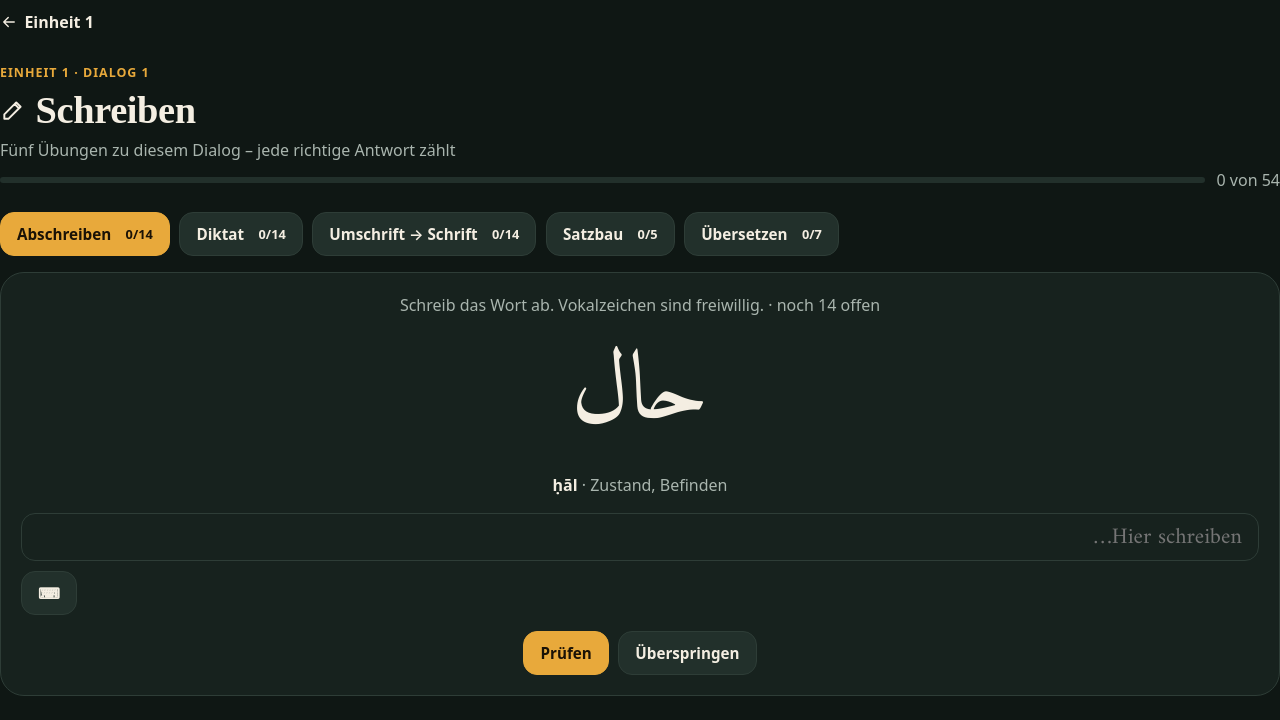
Test: Units (integration) › guides writing step by step, never repeats a solved word and keeps the place
Check: the heading "Schreiben" is shown, box [0,89,196,131]
Type "حال" into the field at (640,538), box [21,514,1259,562]
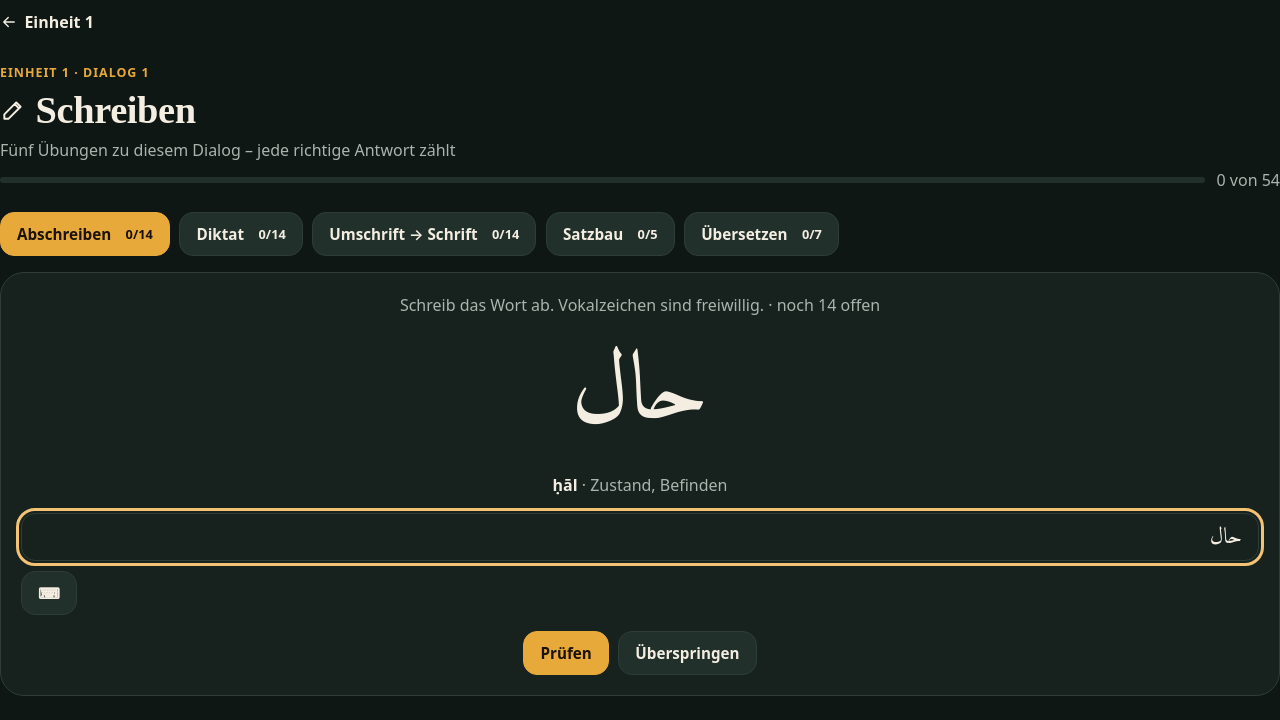
Click the button "Prüfen" at (566,653), box [524,631,609,675]
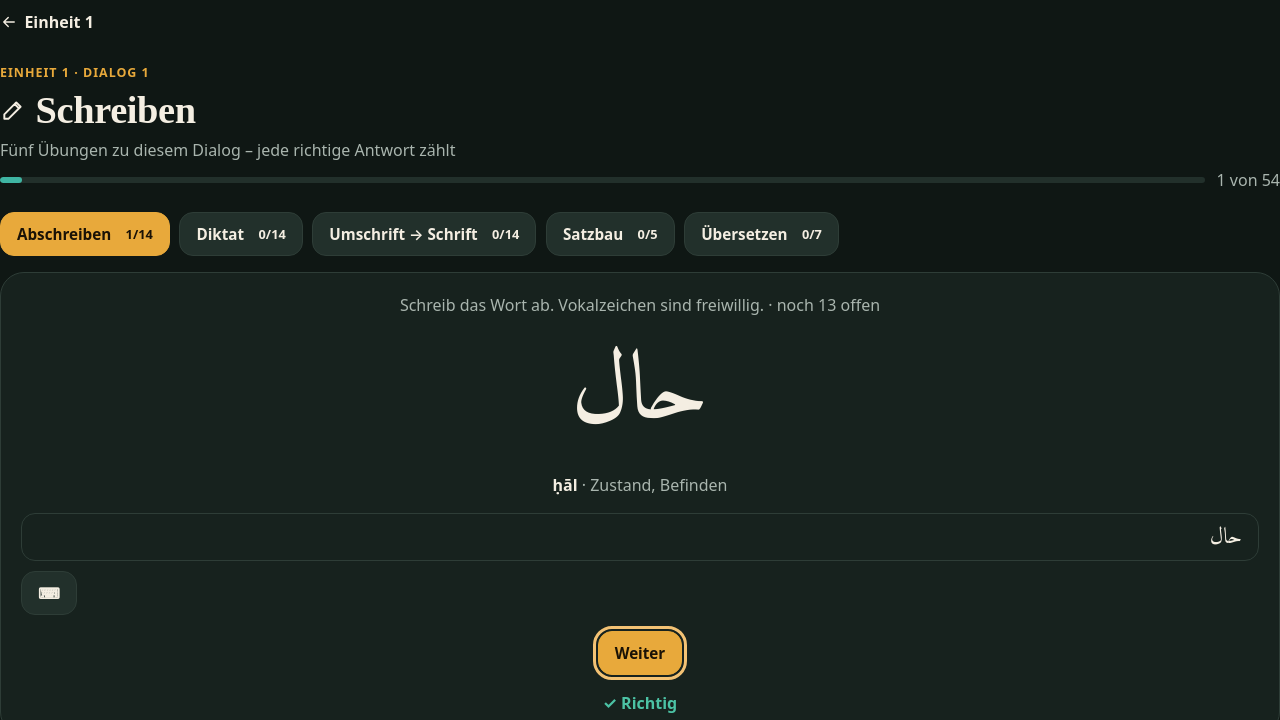
Check: the progress indicator named "Fortschritt Schreiben" has attribute aria-valuenow="1", box [0,177,1204,183]
After a correct answer: on to the next open word.
Click the button "Weiter" at (640,653), box [598,631,682,675]
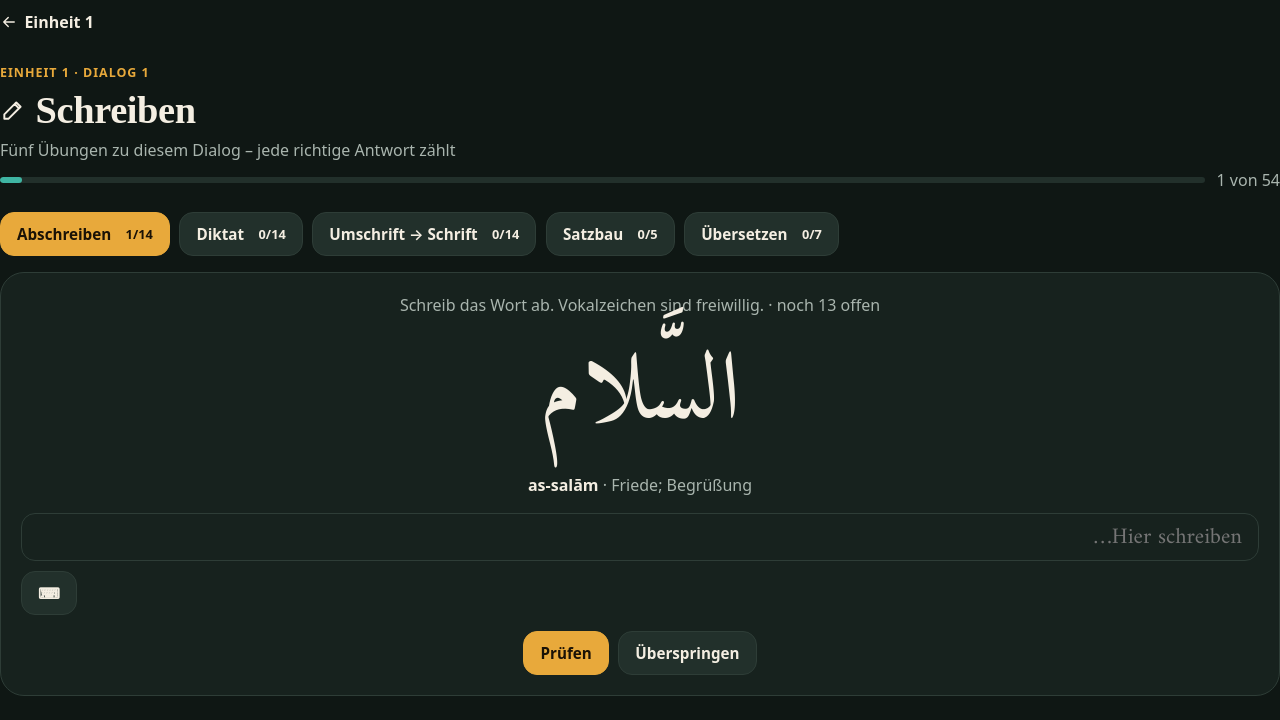
Check: the button "السَّلام" is shown, box [539,333,741,458]
Click the button "Diktat 0/14" at (241,234), box [180,212,303,256]
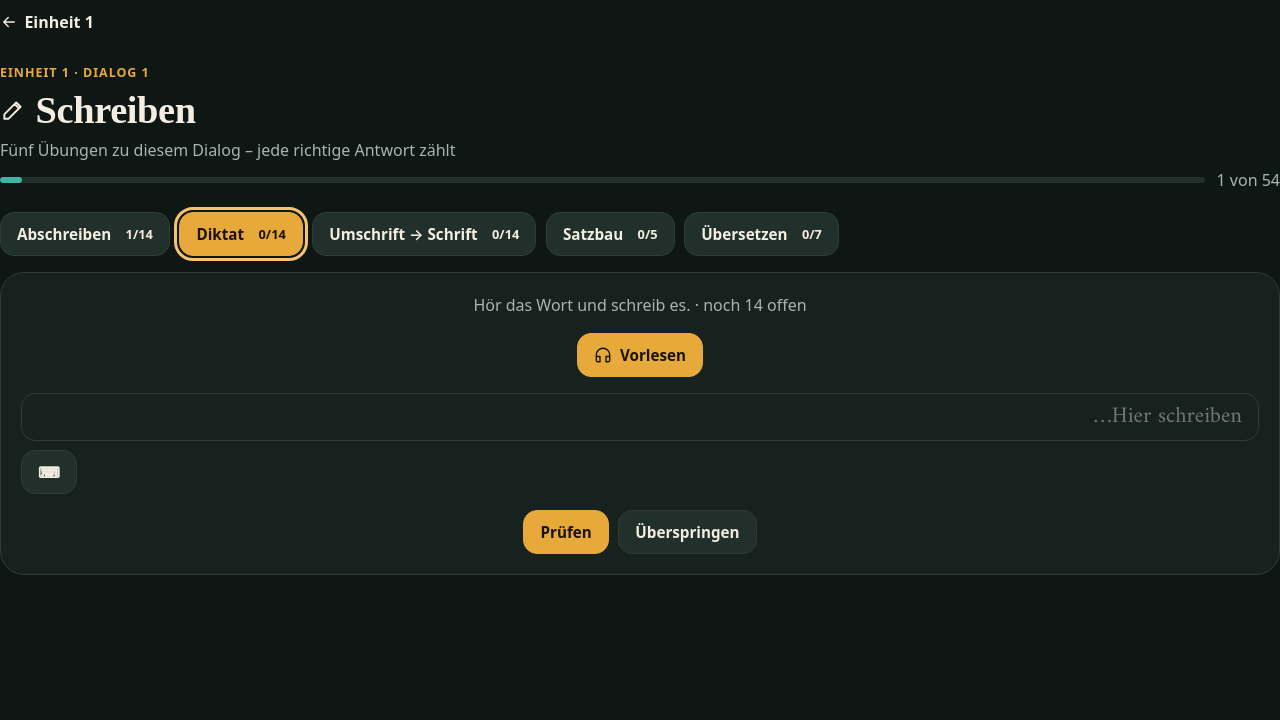
Check: the button "Vorlesen" is shown, box [577,333,703,377]
Click the button "Abschreiben 1/14" at (85,234), box [0,212,170,256]
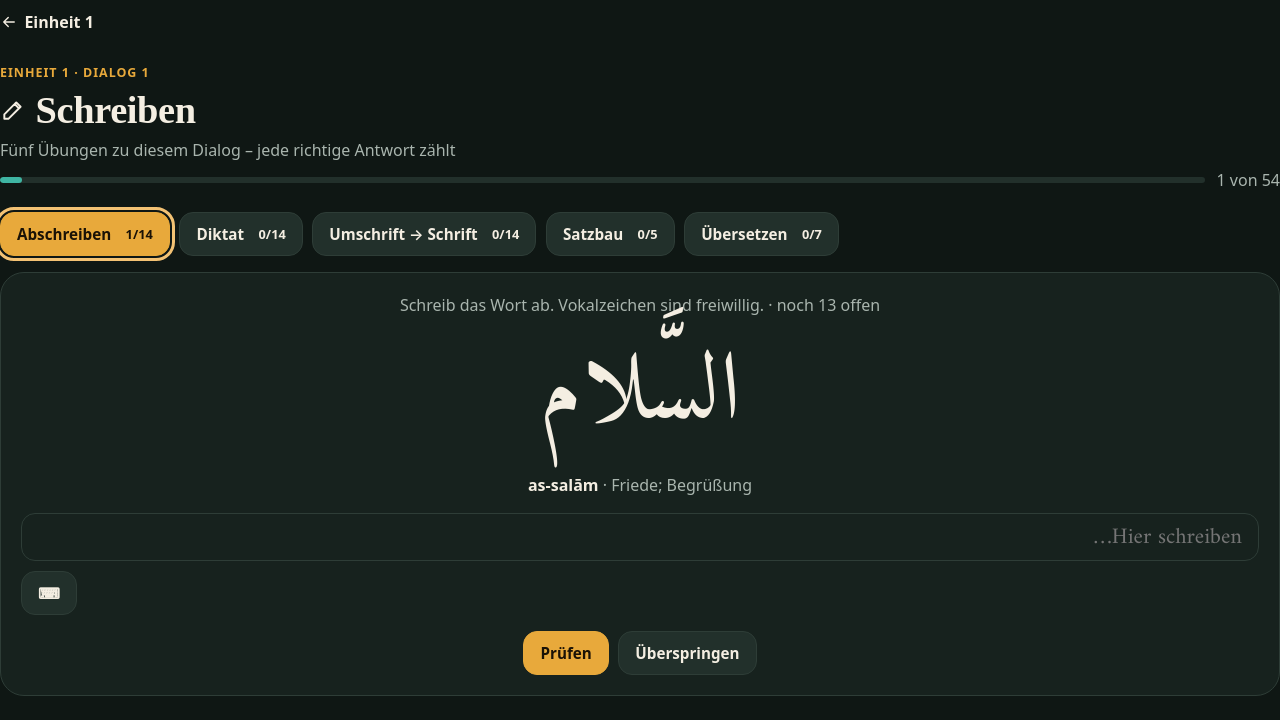
Check: the button "حال" is not shown
Check: the button "السَّلام" is shown, box [539,333,741,458]
